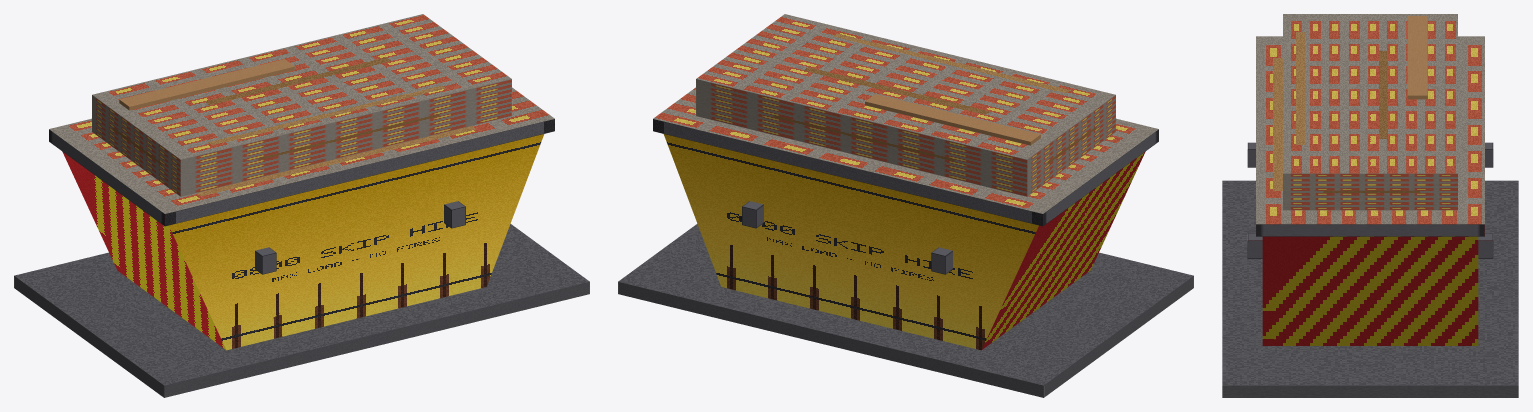
The model's file is prop_street_dumpster.glb.
3 renders of one model, left to right at view 1: azimuth 30°, elevation 25°; view 2: azimuth 150°, elevation 25°; view 3: azimuth 270°, elevation 25°, orthographic.
Parts seen in each view (by area): view 1: Prop_Street_Dumpster; view 2: Prop_Street_Dumpster; view 3: Prop_Street_Dumpster.
Boxes of the visible parts, x1,y1,x2,y2 form: Prop_Street_Dumpster: (14, 14, 589, 397); Prop_Street_Dumpster: (618, 14, 1193, 397); Prop_Street_Dumpster: (1222, 14, 1518, 397).
Size of the model in its own units: 3.6 by 1.68 by 2.2.
Materials: 1 (1 with a texture image).
